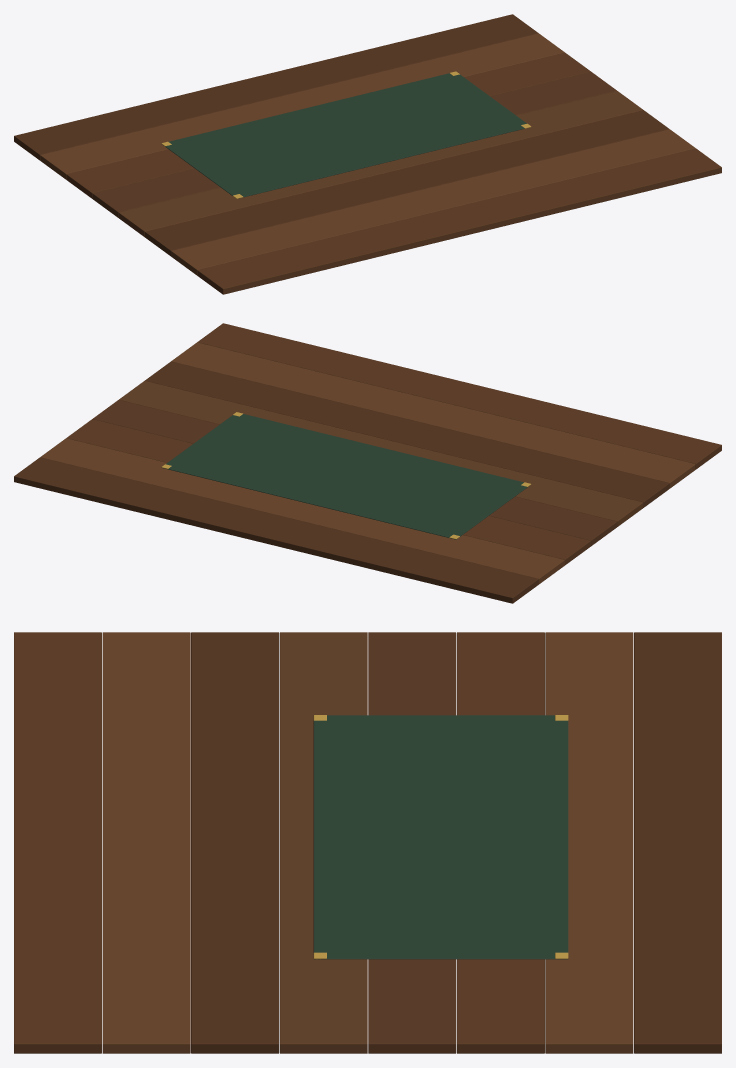
File: desk.fbx
3 renders of one model, top to bottom at view 1: azimuth 30°, elevation 25°; view 2: azimuth 150°, elevation 25°; view 3: azimuth 270°, elevation 25°, orthographic. The views are drawn at different scales.
Parts seen in each view (by area): view 1: blotter, plank0, plank1, plank7, plank2, plank6, plank3, plank4, plank5; view 2: blotter, plank7, plank0, plank2, plank1, plank6, plank3, plank4, plank5; view 3: blotter, plank1, plank0, plank2, plank7, plank6, plank3, plank4, plank5.
Boxes of the visible parts, left/top/right/bottom form: blotter: left=163, top=73, right=526, bottom=198; plank0: left=197, top=148, right=721, bottom=294; plank1: left=171, top=129, right=695, bottom=275; plank7: left=14, top=14, right=538, bottom=160; plank2: left=145, top=110, right=669, bottom=256; plank6: left=40, top=33, right=564, bottom=179; plank3: left=118, top=91, right=642, bottom=237; plank4: left=92, top=71, right=616, bottom=217; plank5: left=66, top=52, right=590, bottom=198; blotter: left=161, top=414, right=529, bottom=539; plank7: left=14, top=457, right=538, bottom=603; plank0: left=197, top=323, right=721, bottom=469; plank2: left=145, top=361, right=669, bottom=507; plank1: left=171, top=342, right=695, bottom=488; plank6: left=40, top=438, right=564, bottom=584; plank3: left=119, top=380, right=643, bottom=526; plank4: left=93, top=400, right=617, bottom=546; plank5: left=66, top=419, right=590, bottom=565; blotter: left=313, top=715, right=568, bottom=959; plank1: left=102, top=632, right=190, bottom=1053; plank0: left=14, top=632, right=101, bottom=1053; plank2: left=191, top=632, right=278, bottom=1053; plank7: left=634, top=632, right=721, bottom=1053; plank6: left=545, top=632, right=633, bottom=1053; plank3: left=279, top=632, right=367, bottom=1053; plank4: left=368, top=632, right=456, bottom=1053; plank5: left=457, top=632, right=544, bottom=1053.
Bounding box in the file's own units: 4.4 × 0.058 × 3.2.
